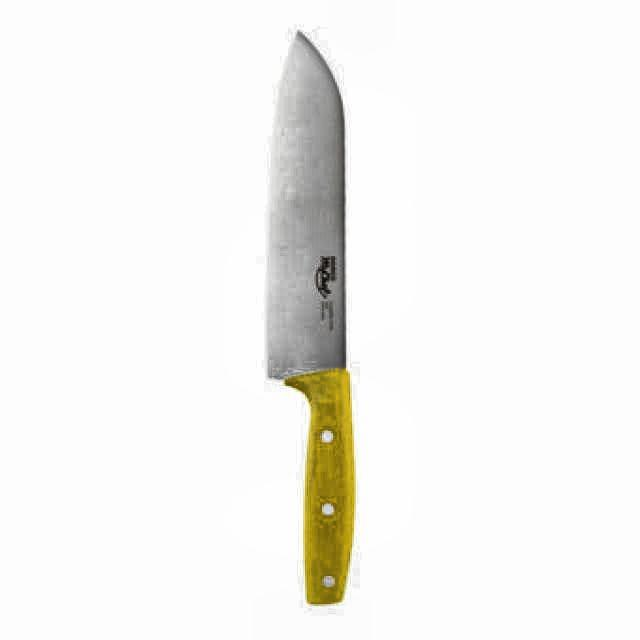knife: (264, 29, 356, 608)
